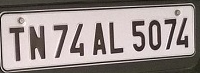0: (148, 19, 162, 50)
4: (69, 23, 87, 56), (177, 17, 190, 48)
5: (131, 19, 146, 52)
7: (51, 23, 68, 59), (163, 17, 177, 50)
A: (92, 21, 106, 55)
L: (108, 21, 124, 54)
N: (28, 24, 46, 60)
T: (7, 26, 26, 61)
